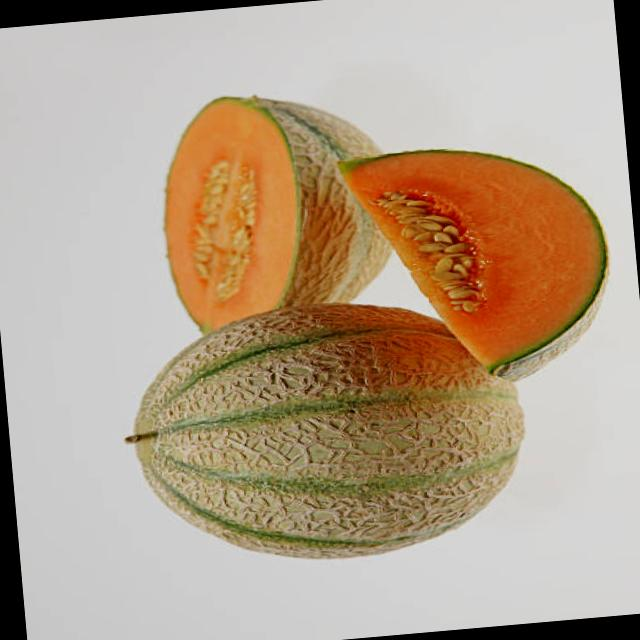cantaloupe: (110, 286, 536, 576), (336, 133, 622, 395), (151, 82, 405, 344)
